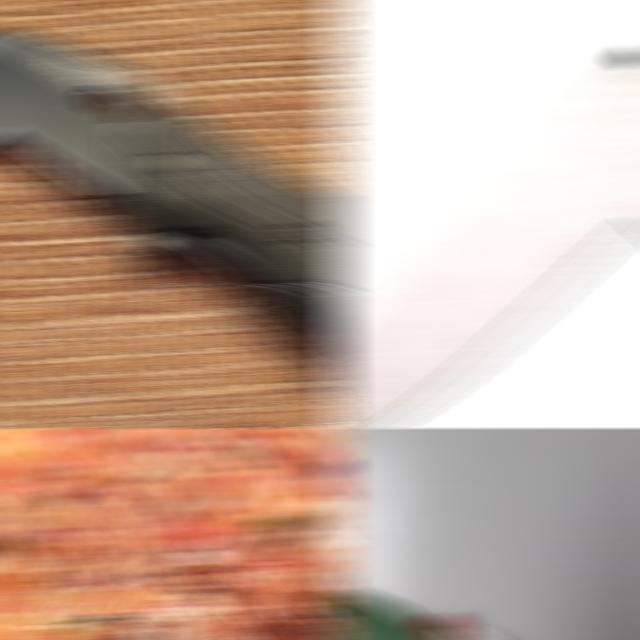Knife: (330, 52, 640, 428)
